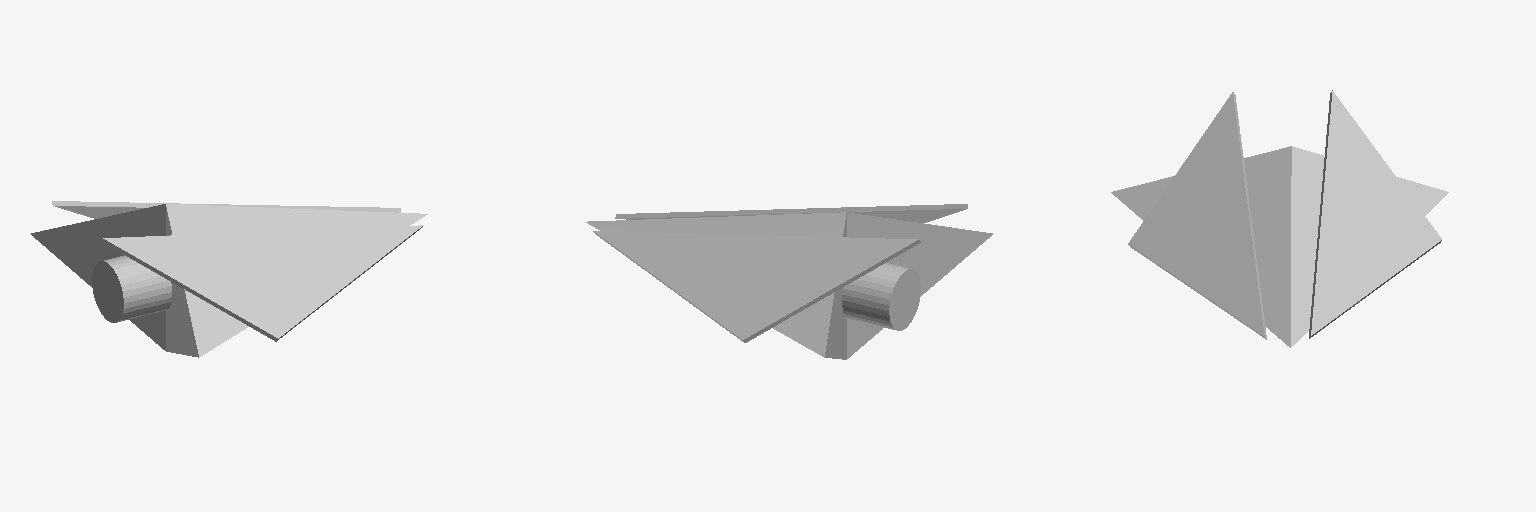
File: ship_shadow.obj
The picture shows the model from 3 angles: view 1: azimuth 30°, elevation 25°; view 2: azimuth 150°, elevation 25°; view 3: azimuth 270°, elevation 25°; orthographic projection.
Parts seen in each view (by area): view 1: Ship, R_Wing, L_Wing; view 2: L_Wing, Ship, R_Wing; view 3: R_Wing, L_Wing, Ship.
Boxes of the visible parts, <box> form: Ship: <box>31,204,427,357</box>; R_Wing: <box>101,225,422,341</box>; L_Wing: <box>52,201,400,218</box>; L_Wing: <box>593,231,920,342</box>; Ship: <box>586,212,992,359</box>; R_Wing: <box>615,204,967,222</box>; R_Wing: <box>1128,92,1266,339</box>; L_Wing: <box>1309,90,1441,338</box>; Ship: <box>1111,146,1448,347</box>.
Size of the model in its own units: 0.9721 by 0.412 by 0.8004.